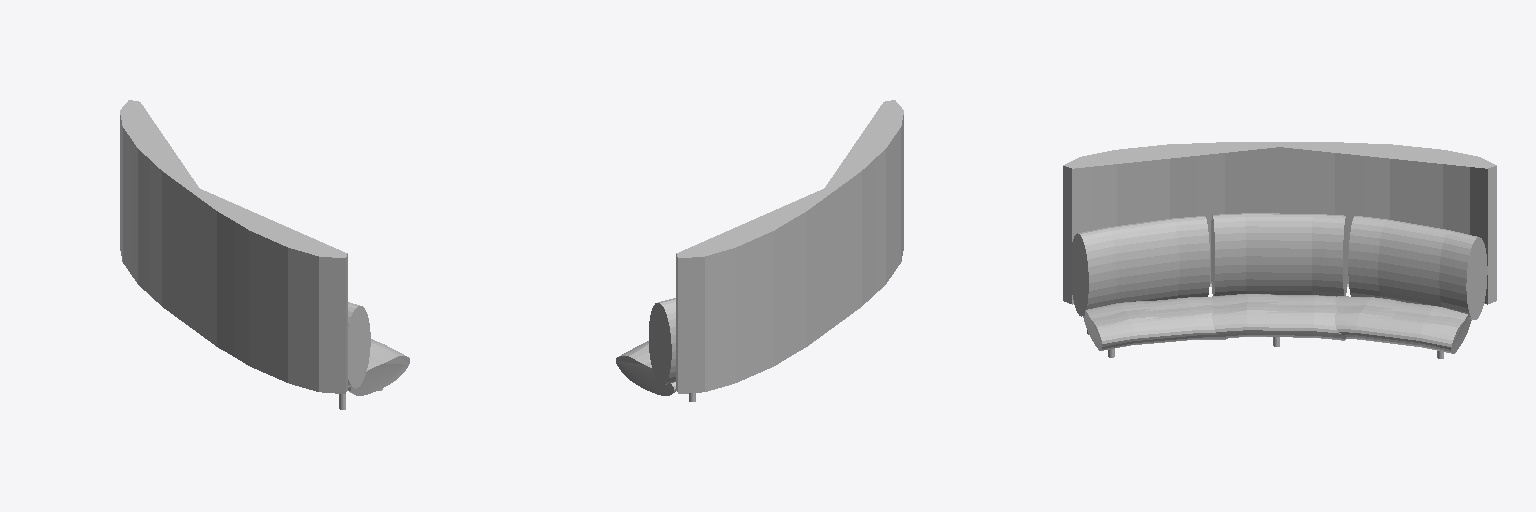
Rendered from big couch divider.obj.
The picture shows the model from 3 angles: view 1: azimuth 30°, elevation 25°; view 2: azimuth 150°, elevation 25°; view 3: azimuth 270°, elevation 25°; orthographic projection.
Parts seen in each view (by area): view 1: Cylinder.005_Cylinder.006; view 2: Cylinder.005_Cylinder.006; view 3: Cylinder.005_Cylinder.006.
Part boxes in pixels (x1,y1,x2,y2): Cylinder.005_Cylinder.006: (120,100,409,409); Cylinder.005_Cylinder.006: (616,100,903,401); Cylinder.005_Cylinder.006: (1063,142,1496,358).
Size of the model in its own units: 6.9 by 8.04 by 19.41.